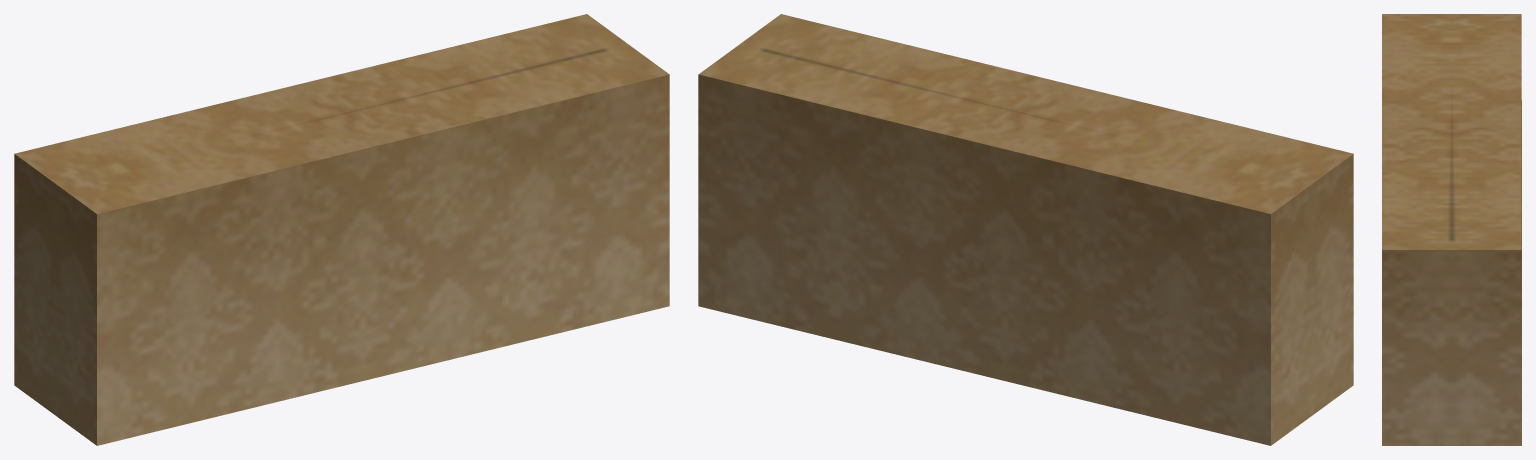
File: wall_topcut.fbx
3 views of the same model, side by side, from view 1: azimuth 30°, elevation 25°; view 2: azimuth 150°, elevation 25°; view 3: azimuth 270°, elevation 25° (orthographic). The views are drawn at different scales.
Parts seen in each view (by area): view 1: wall_room_topcut; view 2: wall_room_topcut; view 3: wall_room_topcut.
Part boxes in pixels (x1,y1,x2,y2): wall_room_topcut: (14,14,669,445); wall_room_topcut: (698,14,1353,445); wall_room_topcut: (1382,14,1521,445).
Size of the model in its own units: 100 by 38.67 by 25.04.
Materials: 1 (1 with a texture image).
